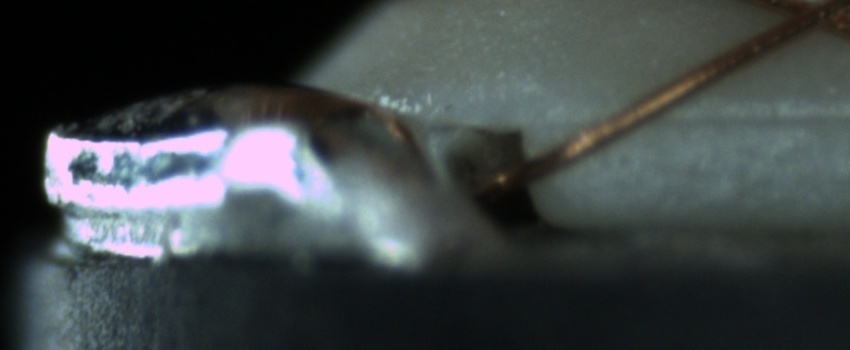CL: (765, 0, 847, 42)
DL: (621, 83, 844, 152)
